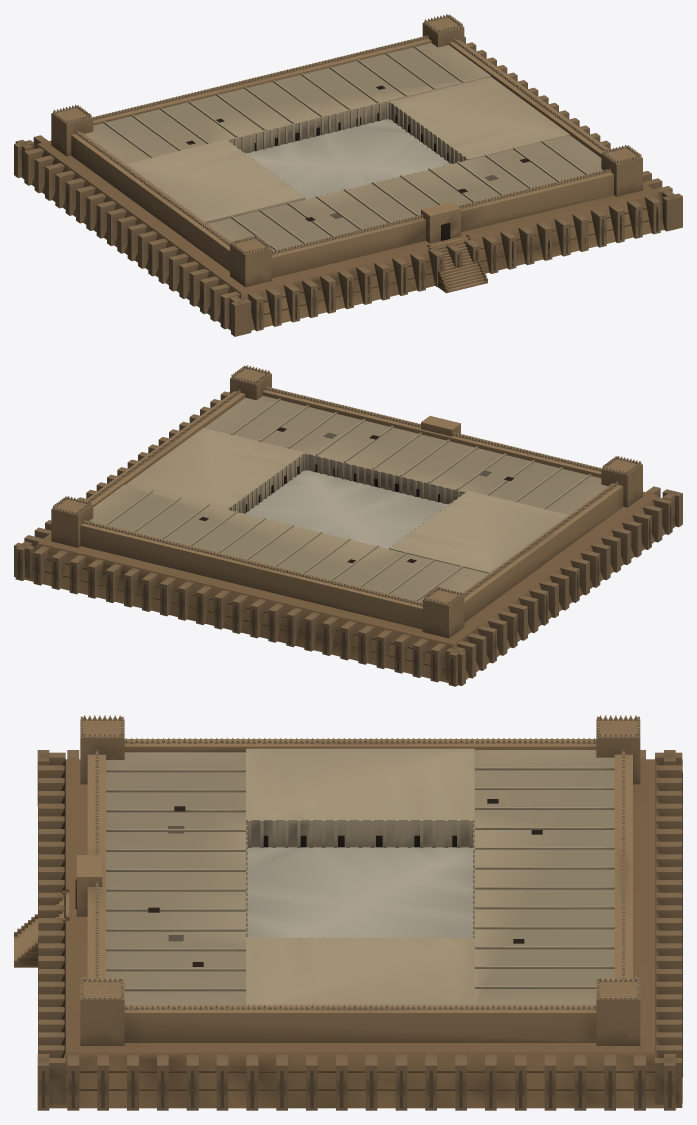
Rendered from summer-palace.glb.
3 views of the same model, one above another, from view 1: azimuth 30°, elevation 25°; view 2: azimuth 150°, elevation 25°; view 3: azimuth 270°, elevation 25° (orthographic). The views are drawn at different scales.
Parts seen in each view (by area): view 1: p1_palace, p0_platform, p2_crenellations; view 2: p1_palace, p0_platform, p2_crenellations; view 3: p1_palace, p0_platform, p2_crenellations.
Boxes of the visible parts, x1,y1,x2,y2 form: p1_palace: (51,14,642,287); p0_platform: (14,36,682,336); p2_crenellations: (76,35,611,254); p1_palace: (51,365,642,638); p0_platform: (14,391,682,686); p2_crenellations: (83,386,618,605); p1_palace: (75,715,640,1045); p0_platform: (14,750,682,1110); p2_crenellations: (95,738,625,1009).
Bounding box in the file's own units: 203 × 29.22 × 182.
